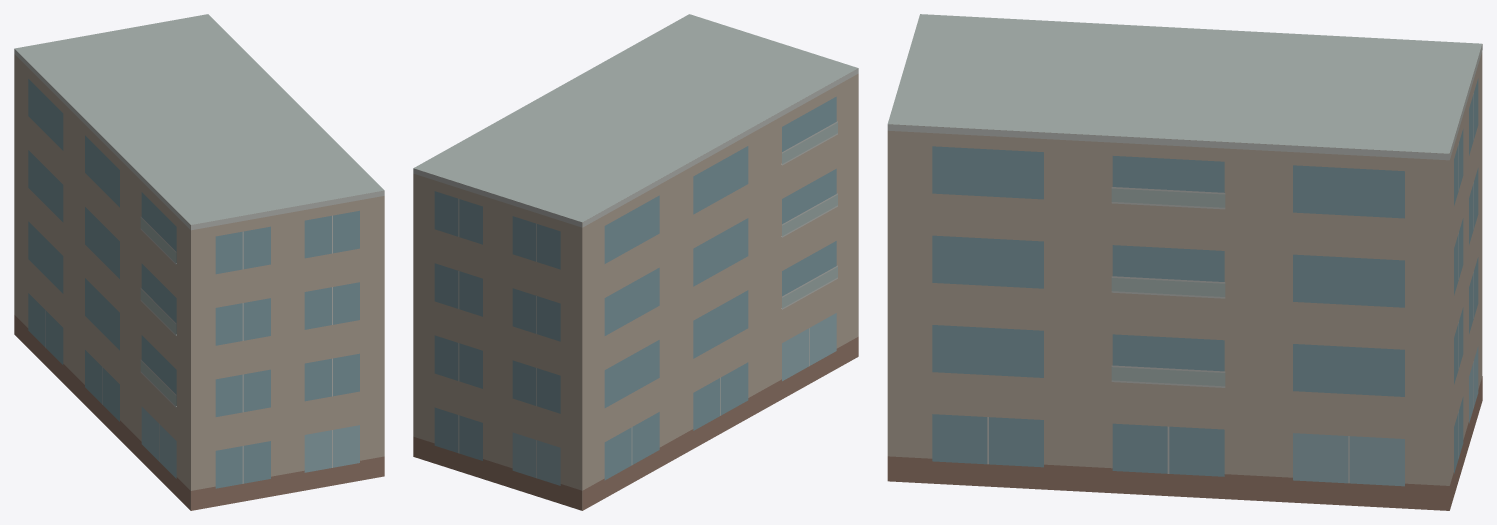
The model's file is survey-upis-32802418.glb.
The picture shows the model from 3 angles, left to right: view 1: azimuth 30°, elevation 25°; view 2: azimuth 150°, elevation 25°; view 3: azimuth 270°, elevation 25°; orthographic projection. The views are drawn at different scales.
Visible parts, largest first — view 1: survey-upis-32802418.tmp; view 2: survey-upis-32802418.tmp; view 3: survey-upis-32802418.tmp.
Boxes of the visible parts, bbox=[...] form: survey-upis-32802418.tmp: bbox=[14, 14, 384, 510]; survey-upis-32802418.tmp: bbox=[413, 14, 858, 510]; survey-upis-32802418.tmp: bbox=[887, 14, 1482, 510].
Size of the model in its own units: 11.09 by 13.2 by 19.94.
